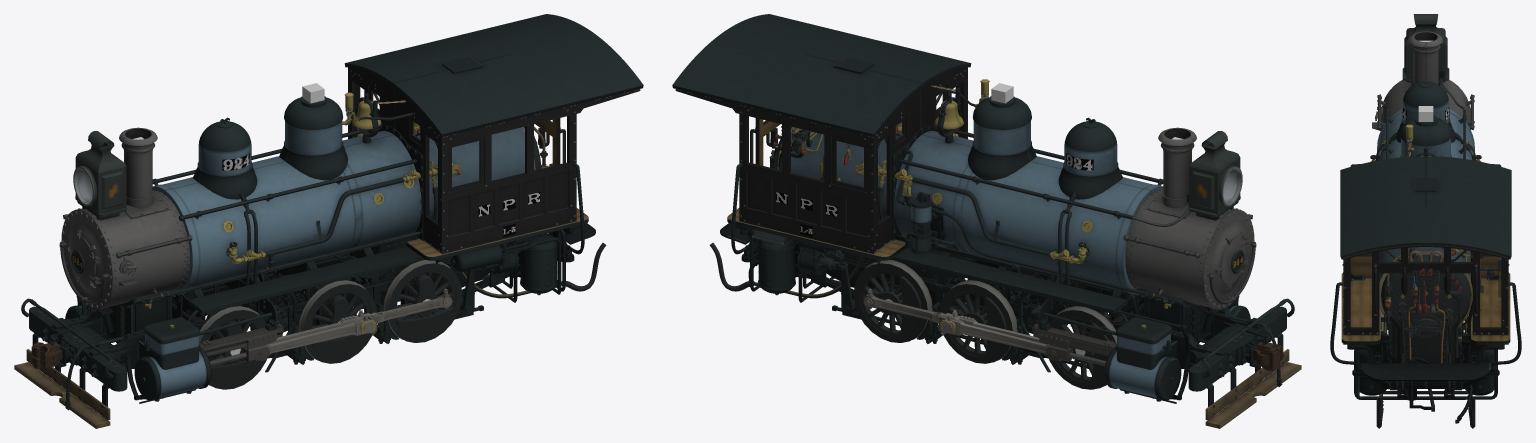
3 renders of one model, left to right at view 1: azimuth 30°, elevation 25°; view 2: azimuth 150°, elevation 25°; view 3: azimuth 270°, elevation 25°, orthographic. The views are drawn at different scales.
Visible parts, largest first — view 1: FRAME, SHELL_cab_exterior, FIREBOX, WHEEL_DRIVER_3, WHEEL_DRIVER_2, WHEEL_DRIVER_1, FRAME_brake_rigging, CAB_detail, SIDE_ROD_LEFT, MAIN_ROD_LEFT, SMOKEBOX_door, FRAME_front_coupler (+2 smaller); view 2: FRAME, SHELL_cab_exterior, WHEEL_DRIVER_3, WHEEL_DRIVER_2, FIREBOX, WHEEL_DRIVER_1, FRAME_brake_rigging, CAB_detail, SIDE_ROD_RIGHT, MAIN_ROD_RIGHT, SMOKEBOX_door, PISTON_ROD_RIGHT (+4 smaller); view 3: SHELL_cab_exterior, FRAME, FIREBOX, CAB_detail, WIDGET_1, CAB_roof_vent, PRESSURE_VALVE_1.
Part boxes in pixels (x1,y1,x2,y2): FRAME: (14, 92, 565, 428); SHELL_cab_exterior: (344, 14, 643, 263); FIREBOX: (349, 127, 541, 305); WHEEL_DRIVER_3: (347, 260, 462, 342); WHEEL_DRIVER_2: (282, 280, 376, 363); WHEEL_DRIVER_1: (172, 306, 266, 389); FRAME_brake_rigging: (250, 244, 518, 364); CAB_detail: (351, 92, 606, 298); SIDE_ROD_LEFT: (268, 288, 452, 344); MAIN_ROD_LEFT: (266, 313, 377, 354); SMOKEBOX_door: (70, 237, 97, 284); FRAME_front_coupler: (31, 329, 70, 368); FRAME: (748, 87, 1301, 428); SHELL_cab_exterior: (672, 14, 971, 263); WHEEL_DRIVER_3: (853, 260, 968, 342); WHEEL_DRIVER_2: (939, 280, 1033, 363); FIREBOX: (776, 127, 976, 309); WHEEL_DRIVER_1: (1049, 306, 1125, 389); FRAME_brake_rigging: (797, 248, 1088, 368); CAB_detail: (709, 88, 982, 298); SIDE_ROD_RIGHT: (863, 288, 1047, 344); MAIN_ROD_RIGHT: (938, 313, 1049, 354); SMOKEBOX_door: (1220, 236, 1248, 284); PISTON_ROD_RIGHT: (1039, 333, 1105, 365); SHELL_cab_exterior: (1330, 156, 1521, 388); FRAME: (1350, 14, 1501, 423); FIREBOX: (1379, 247, 1472, 363); CAB_detail: (1376, 143, 1501, 428); WIDGET_1: (1404, 318, 1442, 334); CAB_roof_vent: (1415, 178, 1436, 192); PRESSURE_VALVE_1: (1418, 106, 1433, 121).
Size of the model in its own units: 9.88 by 4.39 by 3.33.
